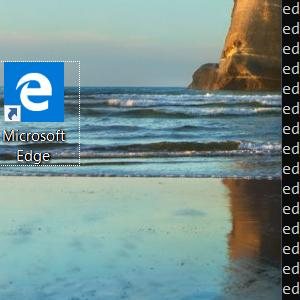edge: (4, 62, 64, 122)
